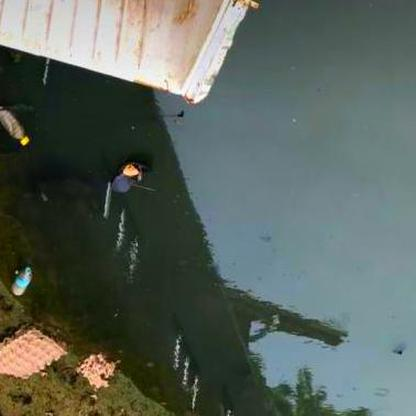plastic bottle: (1, 108, 30, 146), (10, 262, 33, 296)
